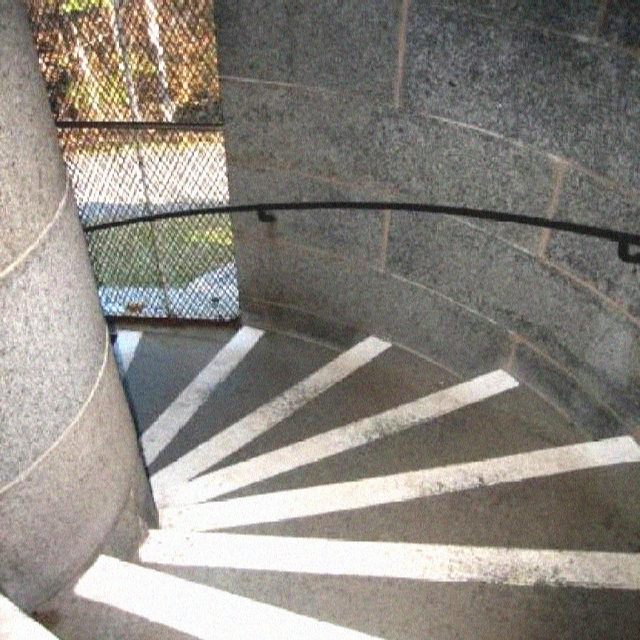stair: (0, 323, 640, 640)
